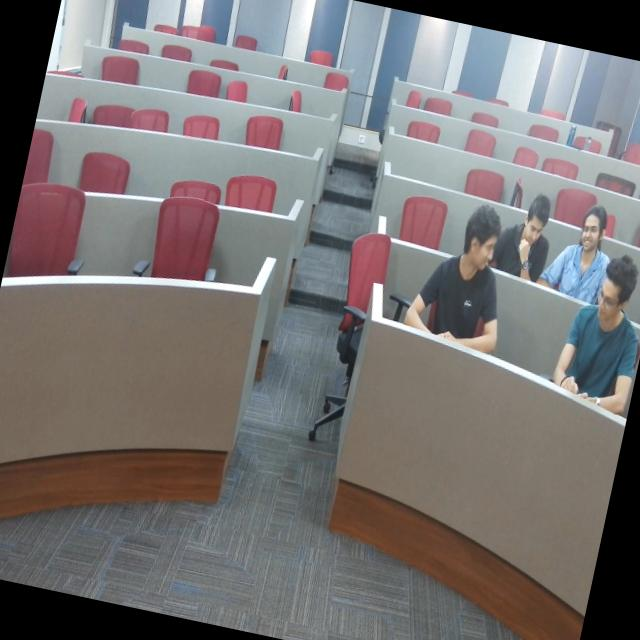cheating: (416, 205, 522, 369), (484, 166, 584, 300), (545, 202, 618, 306)
non-cheating: (547, 238, 640, 441)
